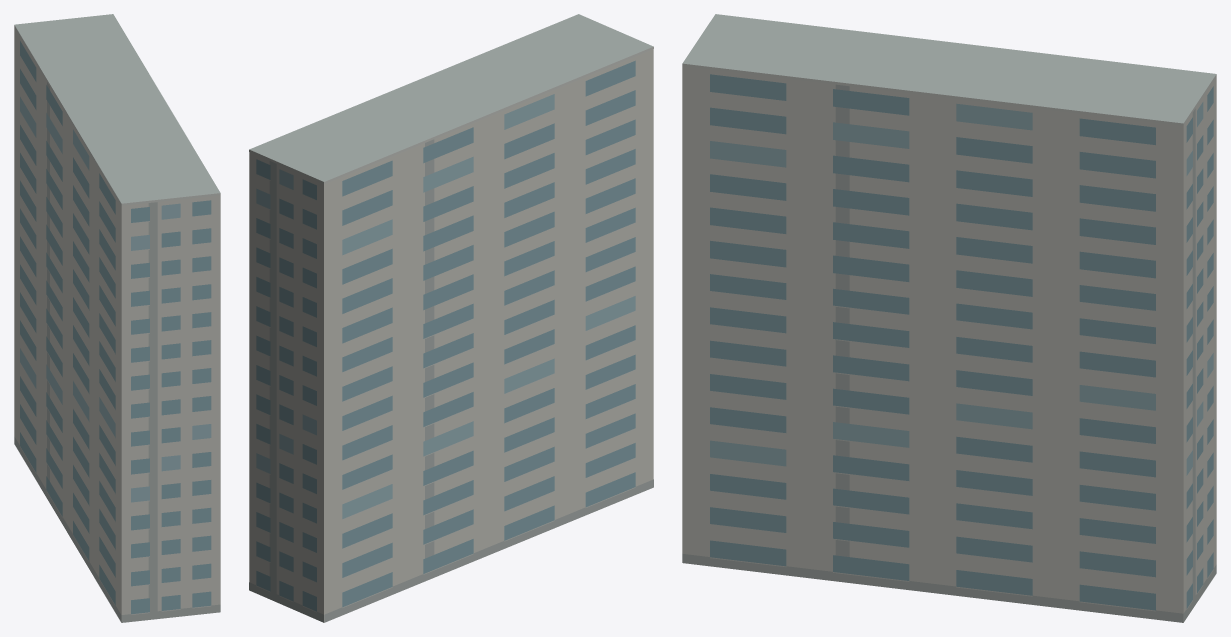
Rendered from residential-36f6bab9-9f12-4cb0-8f81-df944d6bfc0a.glb.
3 renders of one model, left to right at view 1: azimuth 30°, elevation 25°; view 2: azimuth 150°, elevation 25°; view 3: azimuth 270°, elevation 25°, orthographic. The views are drawn at different scales.
Visible parts, largest first — view 1: residential-36f6bab9-9f12-4cb0-8f81-df944d6bfc0a.tmp; view 2: residential-36f6bab9-9f12-4cb0-8f81-df944d6bfc0a.tmp; view 3: residential-36f6bab9-9f12-4cb0-8f81-df944d6bfc0a.tmp.
Part boxes in pixels (left/top/right/bottom): residential-36f6bab9-9f12-4cb0-8f81-df944d6bfc0a.tmp: left=14, top=14, right=220, bottom=622; residential-36f6bab9-9f12-4cb0-8f81-df944d6bfc0a.tmp: left=249, top=14, right=653, bottom=622; residential-36f6bab9-9f12-4cb0-8f81-df944d6bfc0a.tmp: left=682, top=14, right=1216, bottom=622.
Size of the model in its own units: 21.16 by 45 by 43.64.
